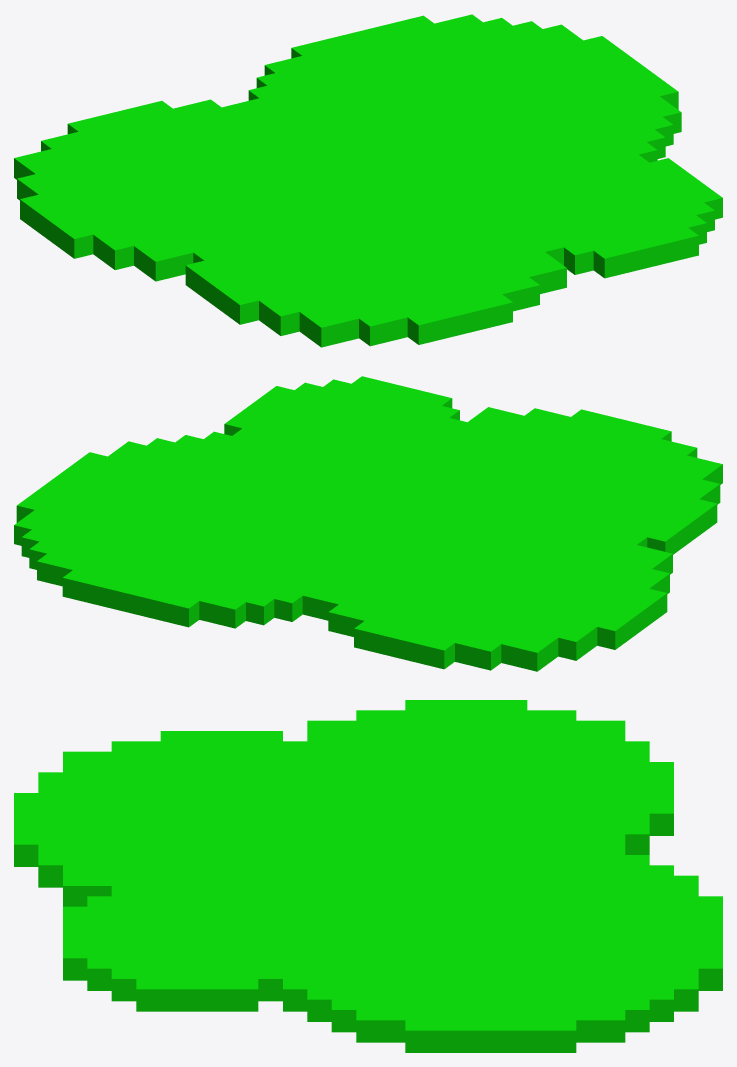
Rendered from Sludge1.dae.
3 renders of one model, top to bottom at view 1: azimuth 30°, elevation 25°; view 2: azimuth 150°, elevation 25°; view 3: azimuth 270°, elevation 25°, orthographic. The views are drawn at different scales.
Parts seen in each view (by area): view 1: sludge1.merged; view 2: sludge1.merged; view 3: sludge1.merged.
Part boxes in pixels (bbox=[...]): sludge1.merged: bbox=[14, 14, 722, 347]; sludge1.merged: bbox=[14, 376, 722, 671]; sludge1.merged: bbox=[14, 700, 722, 1052].
Size of the model in its own units: 3.2 by 0.1 by 2.9.
Materials: 1 (1 with a texture image).
